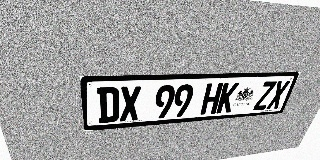9: (172, 84, 195, 117), (154, 85, 176, 119)
D: (97, 87, 119, 123)
H: (200, 83, 223, 115)
K: (216, 82, 239, 114)
X: (120, 86, 141, 122), (266, 81, 290, 109)
Z: (253, 81, 277, 110)
